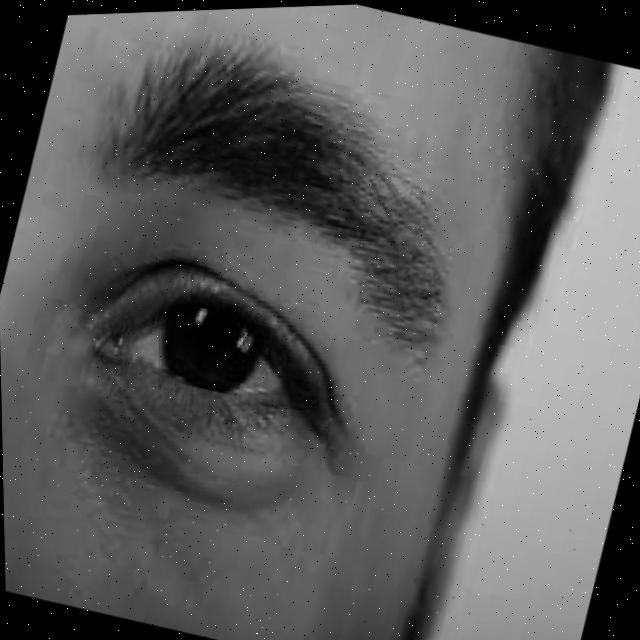puffy_eyes: (6, 369, 332, 584)
